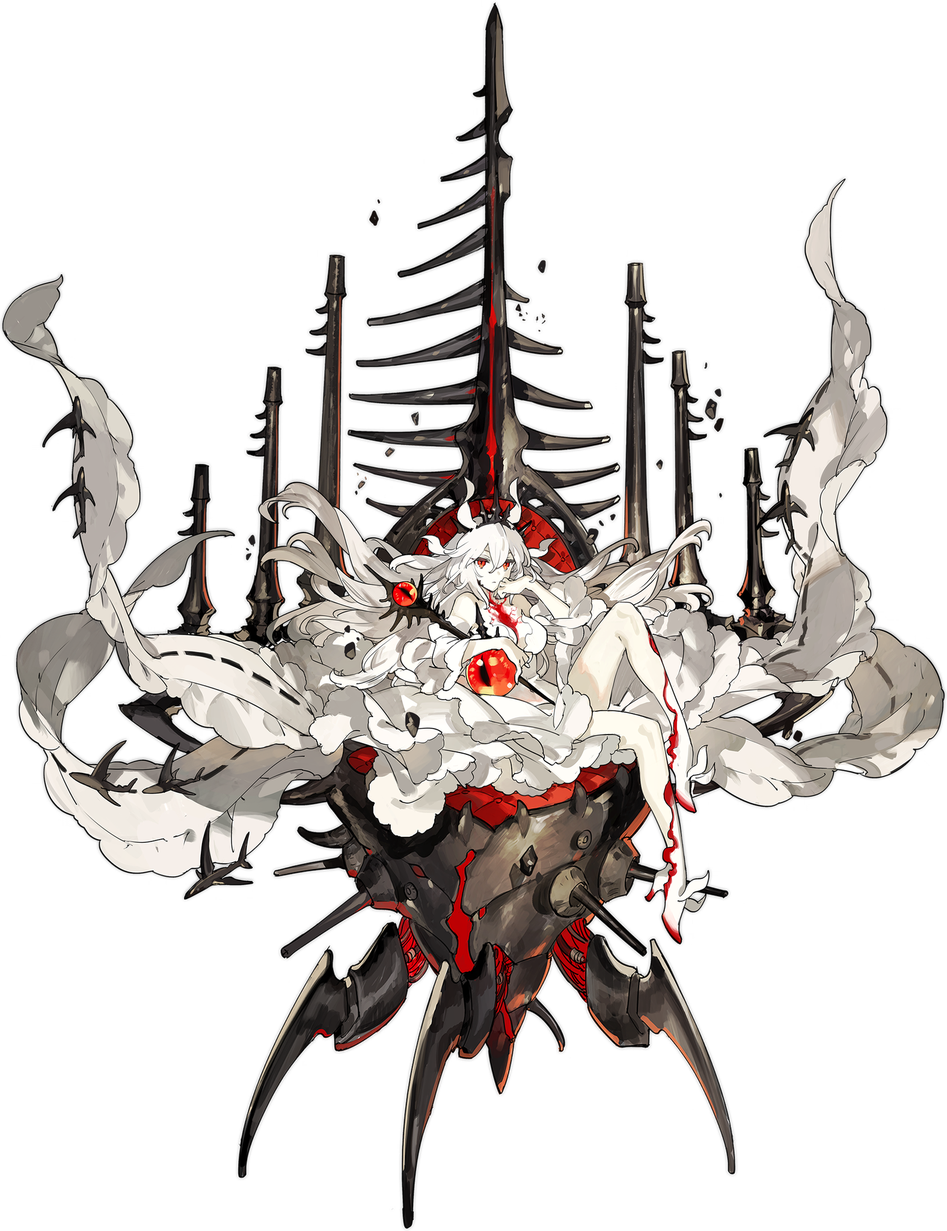person: (378, 498, 726, 1230)
